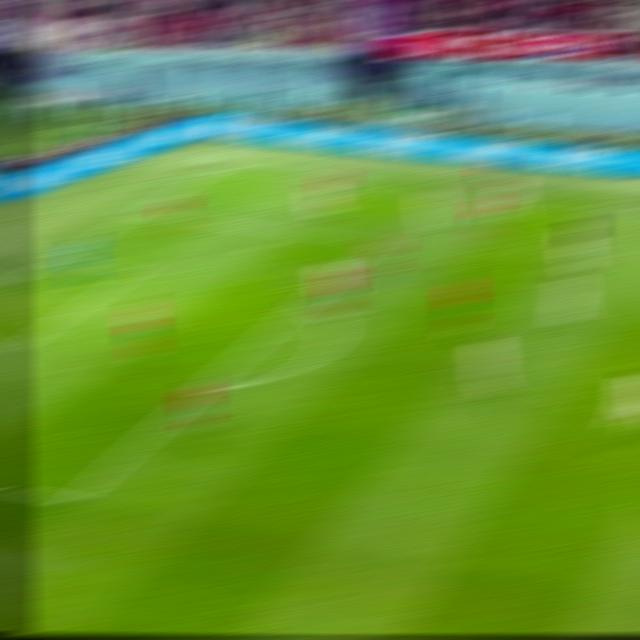bigarea_bottom_inner: (54, 485, 92, 513)
bigarea_top_inner: (364, 232, 396, 249)
bigarea_top_outter: (125, 204, 155, 220)
bottom_arc_area_intersection: (188, 382, 219, 398)
corner: (206, 159, 240, 171)
smallarea_top_inner: (123, 259, 155, 278)
smallarea_top_outter: (41, 250, 75, 266)
top_arc_area_intersection: (291, 292, 323, 308)
